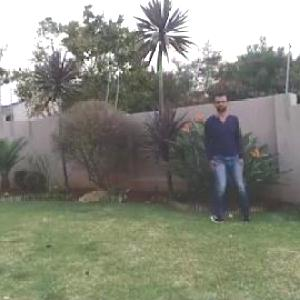follow: (206, 89, 244, 221)
